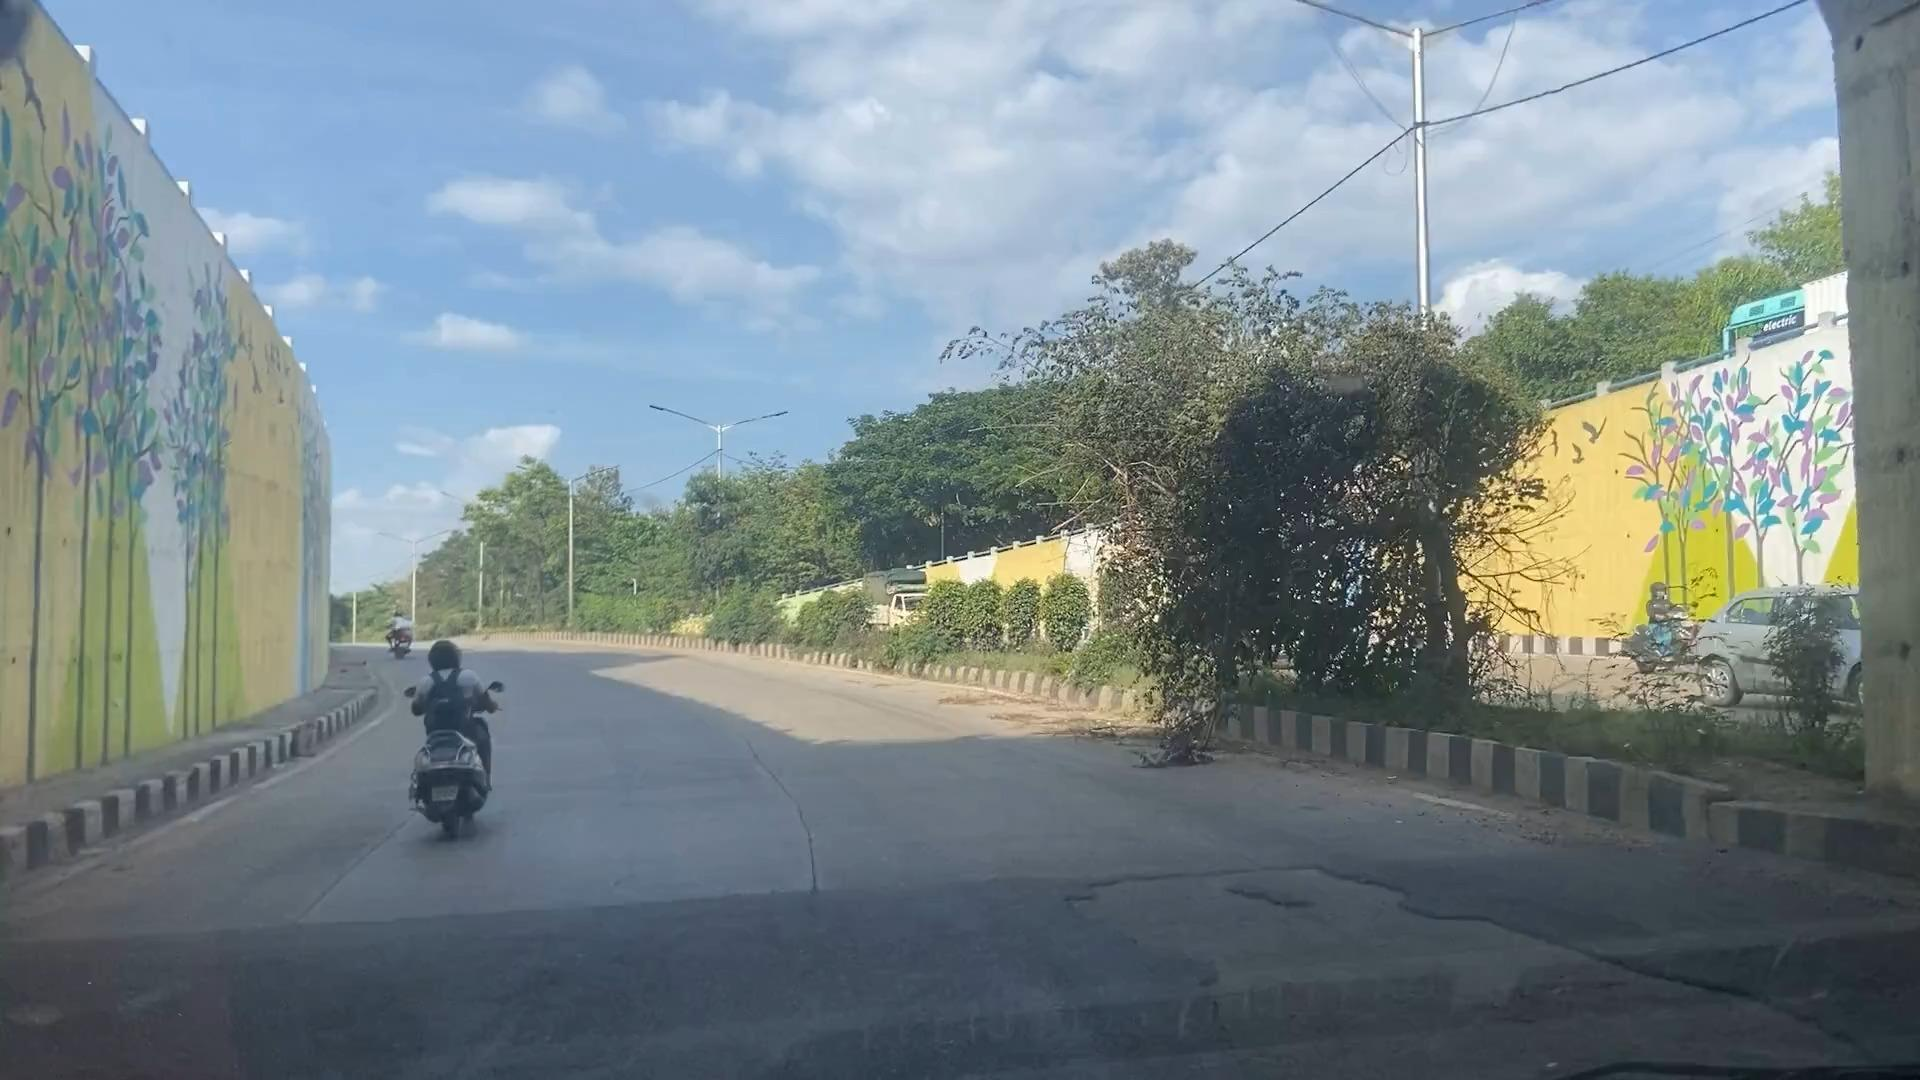LMV: (402, 634, 491, 822)
RoadDamages: (1054, 844, 1920, 1080), (756, 762, 848, 922), (247, 866, 394, 960)
